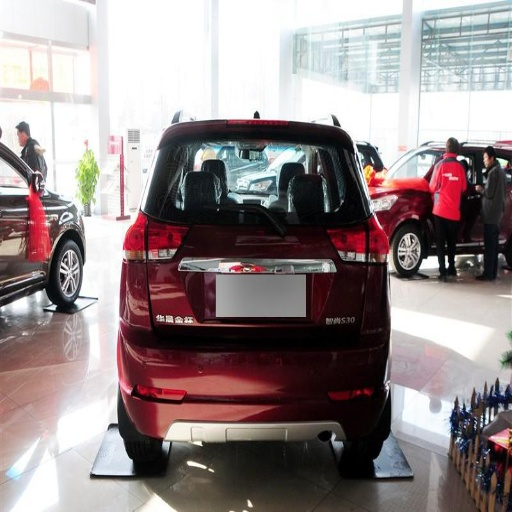back_bumper: (120, 265, 393, 445)
trunk: (146, 219, 372, 374)
